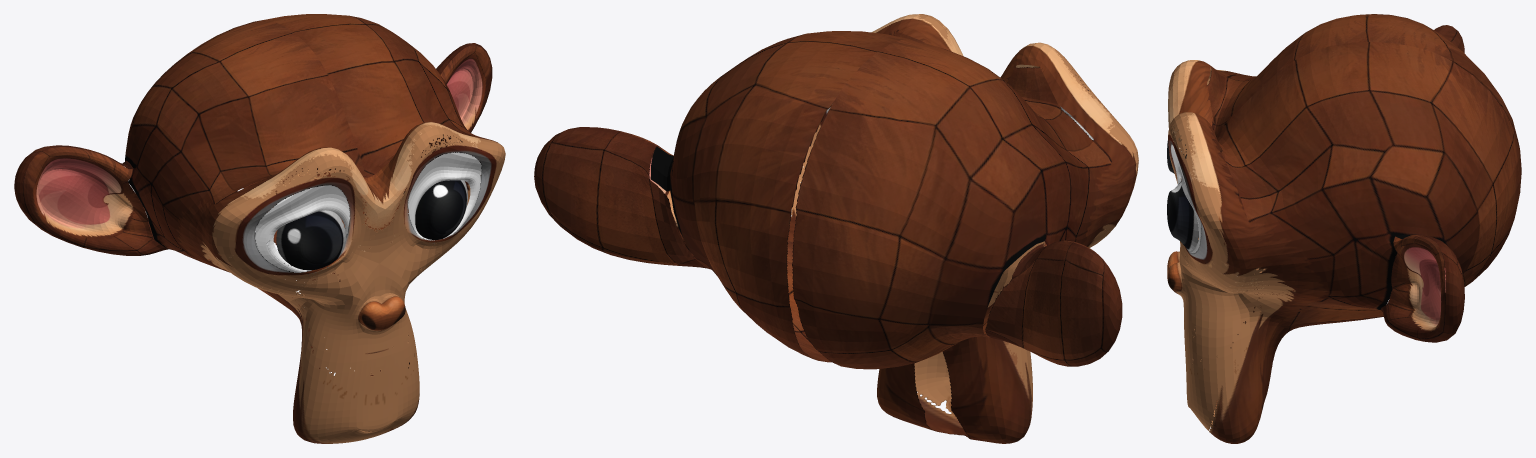
The model's file is monkeynew.obj.
The picture shows the model from 3 angles, left to right: view 1: azimuth 30°, elevation 25°; view 2: azimuth 150°, elevation 25°; view 3: azimuth 270°, elevation 25°; orthographic projection. The views are drawn at different scales.
Visible parts, largest first — view 1: Suzanne; view 2: Suzanne; view 3: Suzanne.
Boxes of the visible parts, <box> form: Suzanne: <box>14,14,505,443</box>; Suzanne: <box>534,14,1138,443</box>; Suzanne: <box>1167,14,1521,443</box>.
Bounding box in the file's own units: 14.85 × 10.69 × 8.95.
1 material, 1 textured.
